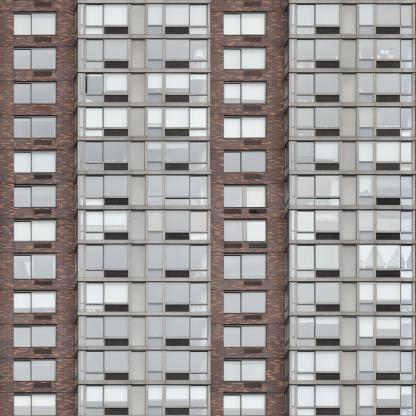Building Outline: (0, 0, 415, 416)
Facade: (1, 1, 416, 416)
Floor: (79, 244, 212, 278), (289, 244, 415, 278), (79, 175, 212, 206), (79, 140, 212, 171), (79, 72, 212, 103), (79, 38, 212, 69), (79, 384, 211, 415), (79, 281, 211, 312), (79, 209, 211, 240), (289, 384, 416, 416), (79, 4, 212, 34), (79, 106, 212, 136), (79, 350, 211, 380), (79, 316, 211, 346), (289, 350, 416, 381), (289, 316, 416, 347), (289, 175, 415, 206), (289, 140, 415, 171), (289, 72, 415, 103), (289, 38, 415, 69), (289, 282, 416, 312), (289, 210, 416, 240), (289, 4, 415, 34), (289, 106, 415, 136), (0, 252, 73, 286), (211, 252, 284, 286), (211, 147, 284, 179), (211, 12, 284, 43), (0, 183, 73, 214), (211, 183, 284, 214), (0, 148, 73, 179), (211, 80, 284, 111), (1, 359, 74, 389), (211, 359, 284, 389), (1, 325, 74, 355), (211, 325, 284, 355), (0, 12, 73, 42), (1, 290, 74, 320), (211, 290, 284, 320), (1, 218, 74, 248), (211, 218, 284, 248), (0, 114, 73, 144), (211, 115, 284, 145), (0, 81, 73, 111), (0, 47, 73, 77), (211, 47, 284, 77), (1, 393, 74, 416), (211, 393, 284, 416)
Floor Slab: (79, 0, 211, 4), (79, 346, 211, 350), (79, 136, 211, 140), (79, 68, 211, 72), (79, 34, 211, 38), (79, 380, 211, 384), (289, 0, 416, 4), (289, 312, 416, 316), (289, 278, 416, 282), (289, 240, 416, 244), (289, 206, 416, 210), (289, 136, 416, 140), (289, 103, 416, 107), (79, 312, 211, 315), (79, 278, 211, 281), (79, 240, 211, 243), (79, 206, 211, 209), (79, 171, 211, 174), (79, 103, 211, 106), (289, 347, 416, 350), (289, 171, 416, 174), (289, 69, 416, 72), (289, 35, 416, 38), (289, 381, 416, 384), (1, 8, 74, 12), (211, 8, 284, 12), (1, 320, 74, 324), (211, 320, 284, 324), (1, 286, 74, 290), (211, 286, 284, 290), (1, 214, 74, 218), (211, 214, 284, 218), (1, 144, 74, 148), (211, 144, 284, 148), (1, 355, 74, 358), (211, 355, 284, 358), (1, 248, 74, 251), (211, 248, 284, 251), (1, 179, 74, 182), (211, 179, 284, 182), (1, 111, 74, 114), (211, 111, 284, 114), (1, 77, 74, 80), (211, 77, 284, 80), (1, 43, 74, 46), (211, 43, 284, 46), (1, 389, 74, 392), (211, 389, 284, 392)
Window: (225, 255, 267, 279), (14, 254, 56, 278), (14, 12, 56, 35), (225, 291, 267, 313), (224, 117, 266, 139), (224, 82, 266, 104), (225, 48, 267, 70), (225, 13, 267, 35), (14, 393, 56, 415), (14, 291, 56, 313), (14, 116, 56, 138), (14, 82, 56, 104), (14, 48, 56, 70), (14, 185, 56, 207), (224, 394, 266, 415), (224, 326, 266, 347), (224, 151, 266, 172), (225, 221, 267, 242), (225, 186, 267, 207), (224, 360, 266, 381), (14, 326, 56, 347), (14, 151, 56, 172), (14, 220, 56, 241), (14, 360, 56, 381), (293, 245, 316, 277), (81, 245, 103, 277), (293, 175, 316, 205), (293, 316, 316, 346), (80, 4, 103, 34), (80, 39, 103, 69), (80, 73, 103, 103), (80, 107, 103, 137), (80, 141, 103, 171), (80, 210, 103, 240), (80, 385, 103, 415), (80, 282, 103, 312), (80, 351, 103, 381), (293, 4, 315, 34), (293, 39, 315, 69), (293, 73, 315, 103), (293, 107, 315, 137), (293, 141, 315, 171), (293, 210, 315, 240), (293, 385, 315, 415), (293, 282, 315, 312), (293, 351, 315, 381), (81, 175, 103, 205), (81, 316, 103, 346), (191, 245, 208, 277), (190, 4, 208, 34), (190, 39, 208, 69), (190, 73, 208, 103), (190, 107, 208, 137), (190, 141, 208, 171), (190, 175, 208, 205), (190, 210, 208, 240), (190, 385, 208, 415), (190, 282, 208, 312), (190, 351, 208, 381), (317, 245, 340, 268), (167, 245, 190, 268), (105, 245, 128, 268), (377, 245, 400, 268), (191, 316, 208, 346), (317, 4, 340, 25), (317, 39, 340, 60), (317, 73, 340, 94), (317, 107, 340, 128), (317, 140, 340, 161), (317, 175, 340, 196), (317, 210, 340, 231), (317, 385, 340, 406), (318, 316, 341, 337), (310, 282, 333, 303), (317, 351, 340, 372), (166, 4, 189, 25), (105, 4, 128, 25), (166, 39, 189, 60), (105, 39, 128, 60), (166, 73, 189, 94), (105, 73, 128, 94), (166, 107, 189, 128), (105, 107, 128, 128), (166, 140, 189, 161), (105, 140, 128, 161), (166, 175, 189, 196), (105, 175, 128, 196), (166, 210, 189, 231), (105, 210, 128, 231), (166, 385, 189, 406), (105, 385, 128, 406), (167, 316, 190, 337), (105, 316, 128, 337), (166, 282, 189, 303), (105, 282, 128, 303), (166, 351, 189, 372), (105, 351, 128, 372), (377, 385, 400, 406), (377, 351, 400, 372), (377, 316, 400, 337), (377, 282, 400, 303), (377, 210, 400, 231), (377, 175, 400, 196), (377, 141, 400, 162), (377, 5, 400, 25), (377, 108, 400, 128), (377, 73, 400, 93), (377, 39, 400, 59), (149, 245, 163, 277), (360, 245, 374, 277), (148, 4, 162, 34), (148, 39, 162, 69), (148, 73, 162, 103), (148, 107, 162, 137), (148, 141, 162, 171), (148, 175, 162, 205), (149, 210, 163, 240), (149, 385, 163, 415), (149, 316, 163, 346), (149, 282, 163, 312), (149, 351, 163, 381), (360, 385, 374, 415), (360, 350, 374, 380), (360, 316, 374, 346), (360, 282, 374, 312), (360, 210, 374, 240), (360, 175, 374, 205), (360, 141, 374, 171), (360, 5, 374, 34), (360, 108, 374, 137), (360, 73, 374, 102), (360, 39, 374, 68), (401, 245, 413, 277), (401, 385, 413, 415), (401, 350, 413, 380), (401, 316, 413, 346), (401, 4, 413, 34), (401, 282, 413, 312), (401, 210, 413, 240), (401, 175, 413, 205), (401, 141, 413, 171), (401, 107, 413, 136), (401, 73, 413, 102), (401, 39, 413, 68)
